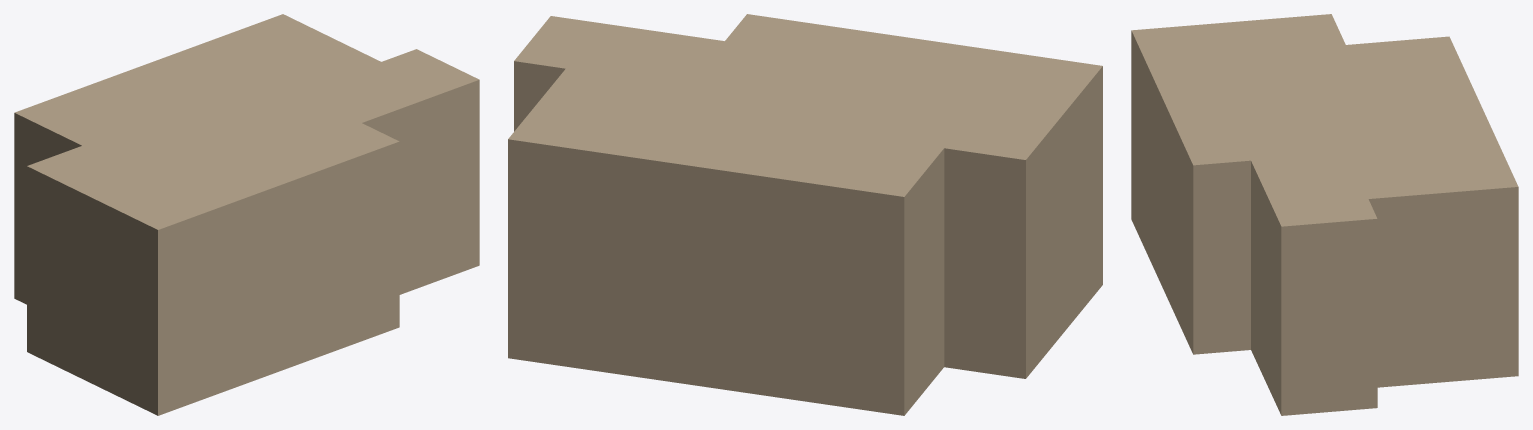
Rendered from bld_101562173.dae.
The picture shows the model from 3 angles, left to right: view 1: azimuth 30°, elevation 25°; view 2: azimuth 150°, elevation 25°; view 3: azimuth 270°, elevation 25°; orthographic projection. The views are drawn at different scales.
Parts seen in each view (by area): view 1: bld_101562173; view 2: bld_101562173; view 3: bld_101562173.
Boxes of the visible parts, <box> form: bld_101562173: <box>14,14,479,415</box>; bld_101562173: <box>508,14,1102,415</box>; bld_101562173: <box>1131,14,1518,415</box>.
Size of the model in its own units: 19.27 by 14.83 by 8.
